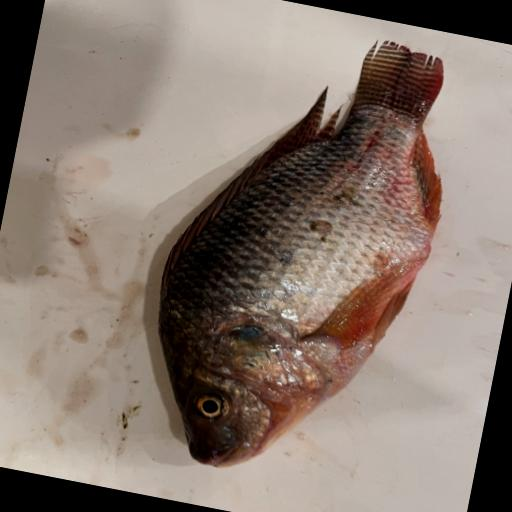Tilapia: (129, 7, 472, 501)
